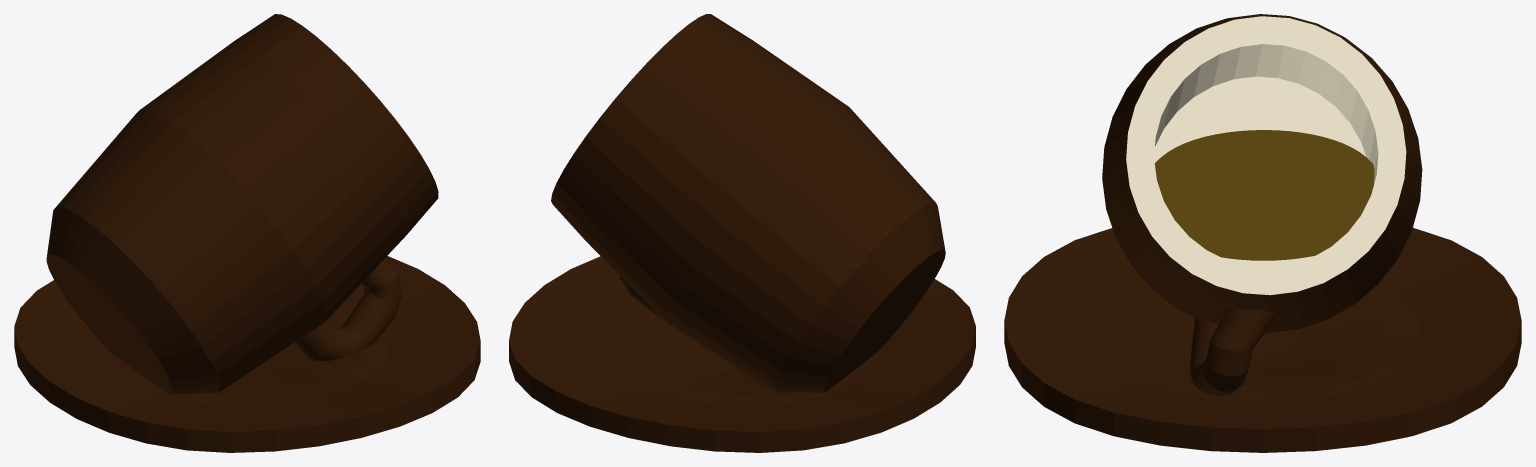
The model's file is hotChocolateBallista.glb.
3 views of the same model, side by side, from view 1: azimuth 30°, elevation 25°; view 2: azimuth 150°, elevation 25°; view 3: azimuth 270°, elevation 25° (orthographic). The views are drawn at different scales.
Visible parts, largest first — view 1: HOT_CHOCOLATE_BALLISTA; view 2: HOT_CHOCOLATE_BALLISTA; view 3: HOT_CHOCOLATE_BALLISTA.
Part boxes in pixels (left/top/right/bottom): HOT_CHOCOLATE_BALLISTA: left=14, top=14, right=480, bottom=452; HOT_CHOCOLATE_BALLISTA: left=509, top=14, right=975, bottom=452; HOT_CHOCOLATE_BALLISTA: left=1004, top=14, right=1521, bottom=452.
Size of the model in its own units: 7.38 by 6.1 by 7.38.
